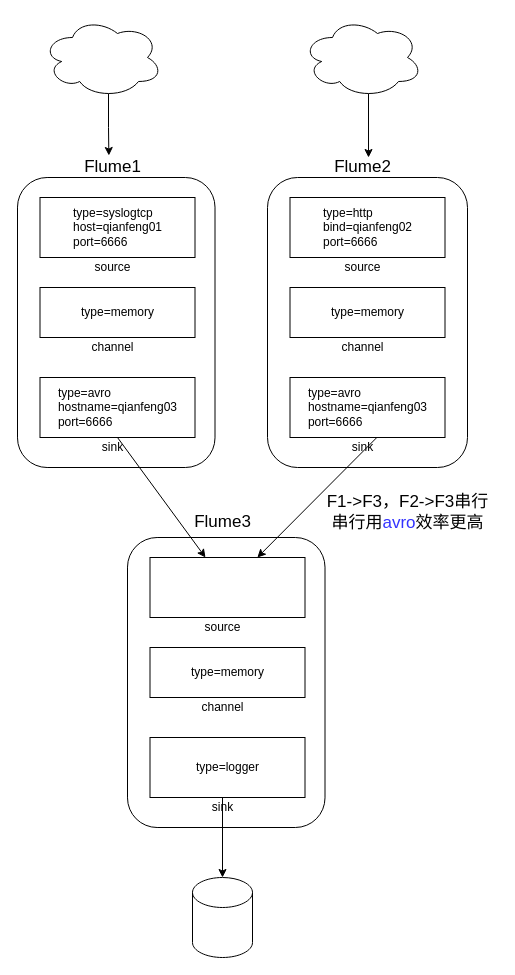
The diagram is 515 pixels wide and 975 high, and some of its shapes have lost their labels. Each missing label, with the centre of its shape:
"HDFS" belongs at [222,917].
"type=avro bind=qianfeng03 port=6666" belongs at [227,587].
"Web" belongs at [362,57].
"日志文件" belongs at [102,57].
